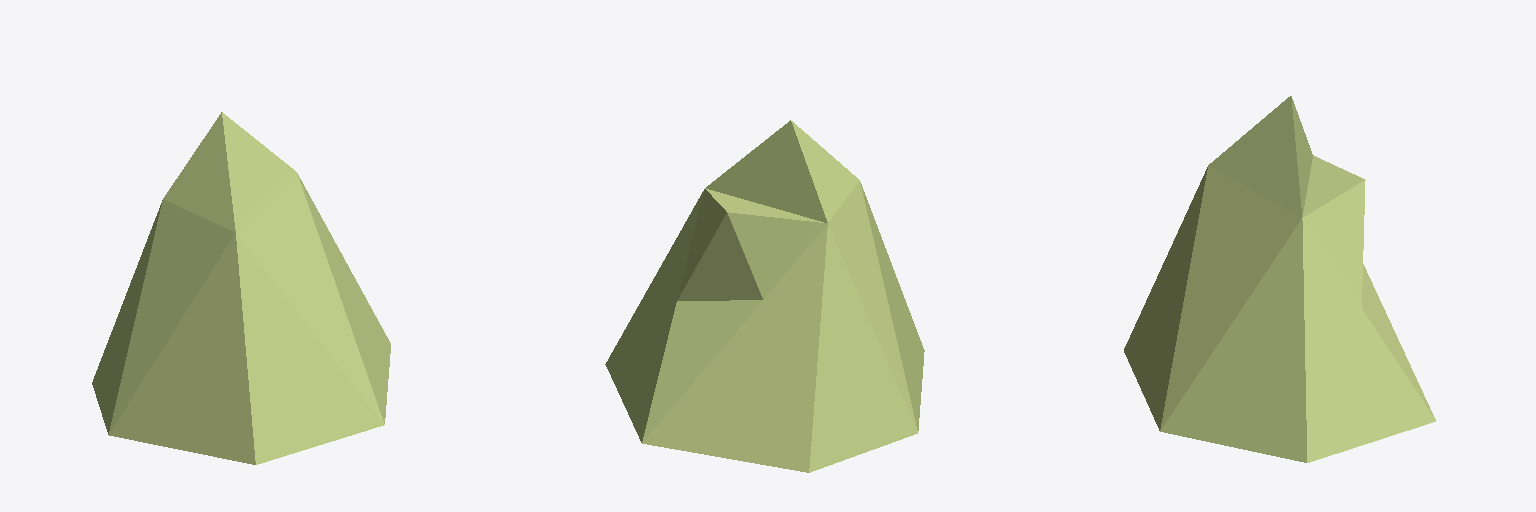
File: gora2.obj
3 views of the same model, side by side, from view 1: azimuth 30°, elevation 25°; view 2: azimuth 150°, elevation 25°; view 3: azimuth 270°, elevation 25° (orthographic).
Parts seen in each view (by area): view 1: GeoSphere005; view 2: GeoSphere005; view 3: GeoSphere005.
Boxes of the visible parts, <box> form: GeoSphere005: <box>92,112,390,464</box>; GeoSphere005: <box>605,120,924,472</box>; GeoSphere005: <box>1124,96,1435,462</box>.
Size of the model in its own units: 203 by 191 by 184.